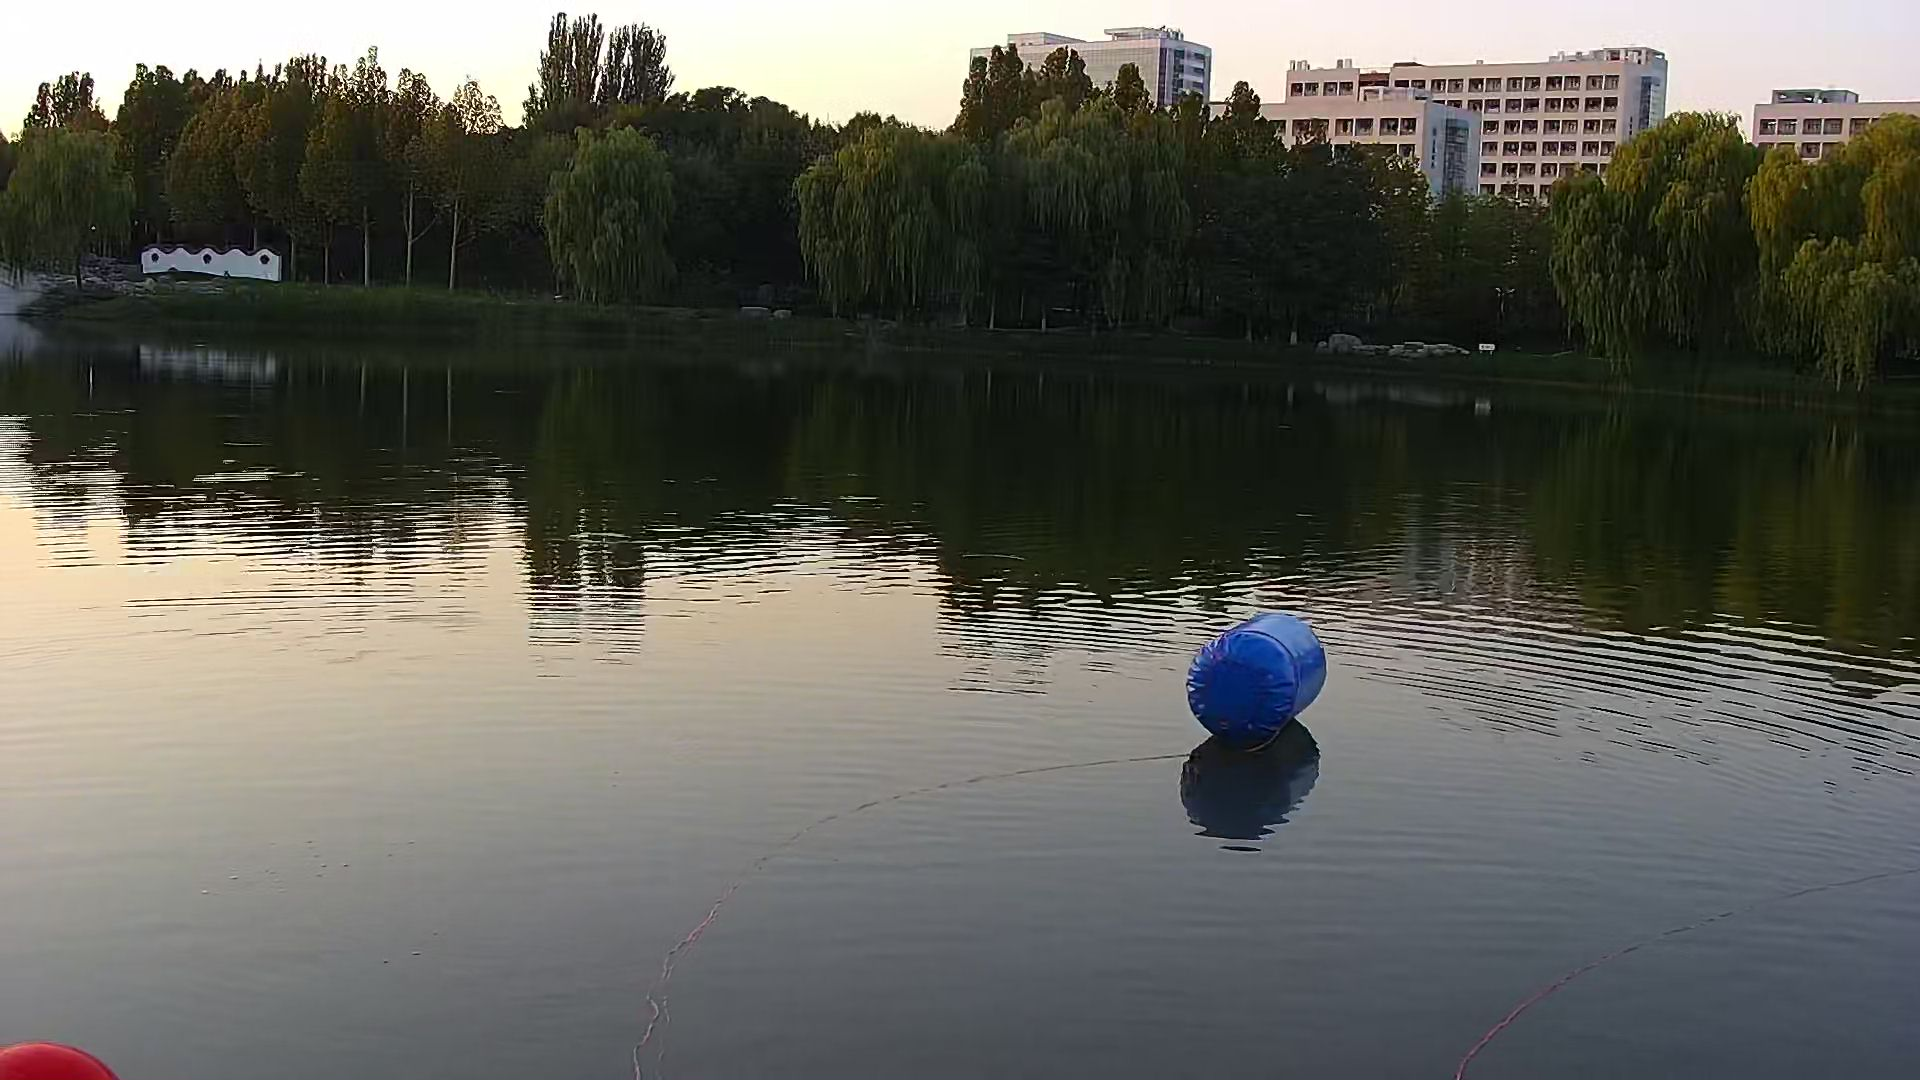rubbish: (1184, 597, 1337, 753)
